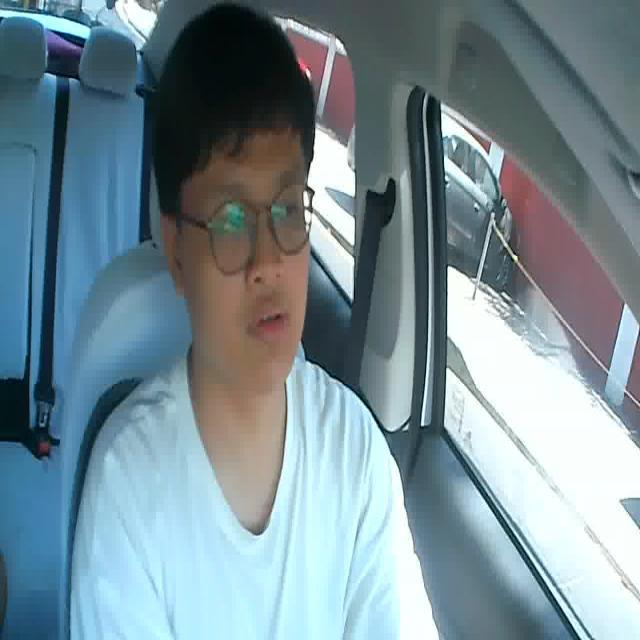Attentive: (149, 3, 317, 388)
Eye-Open: (220, 213, 245, 236), (276, 202, 298, 224)
Normal: (250, 300, 289, 336)
